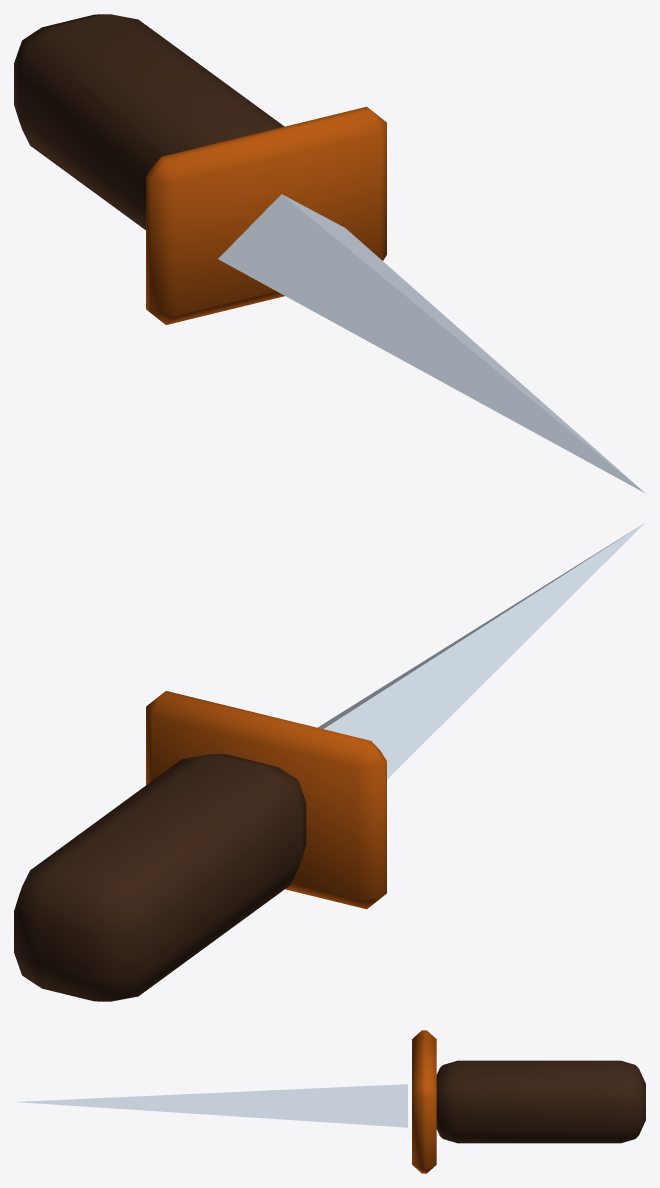
The model's file is knife.glb.
3 views of the same model, one above another, from view 1: azimuth 30°, elevation 25°; view 2: azimuth 150°, elevation 25°; view 3: azimuth 270°, elevation 25° (orthographic). The views are drawn at different scales.
Parts seen in each view (by area): view 1: Guard, Handle, Blade; view 2: Handle, Guard, Blade; view 3: Handle, Blade, Guard.
Part boxes in pixels (x1=…): Guard: x1=146, y1=106, x2=386, y2=324; Handle: x1=14, y1=14, x2=284, y2=229; Blade: x1=218, y1=194, x2=644, y2=492; Handle: x1=14, y1=754, x2=306, y2=1001; Guard: x1=146, y1=691, x2=386, y2=909; Blade: x1=318, y1=523, x2=644, y2=779; Handle: x1=436, y1=1060, x2=645, y2=1143; Blade: x1=17, y1=1084, x2=407, y2=1127; Guard: x1=412, y1=1030, x2=436, y2=1173.
Size of the model in its own units: 0.09 by 0.06 by 0.385.
